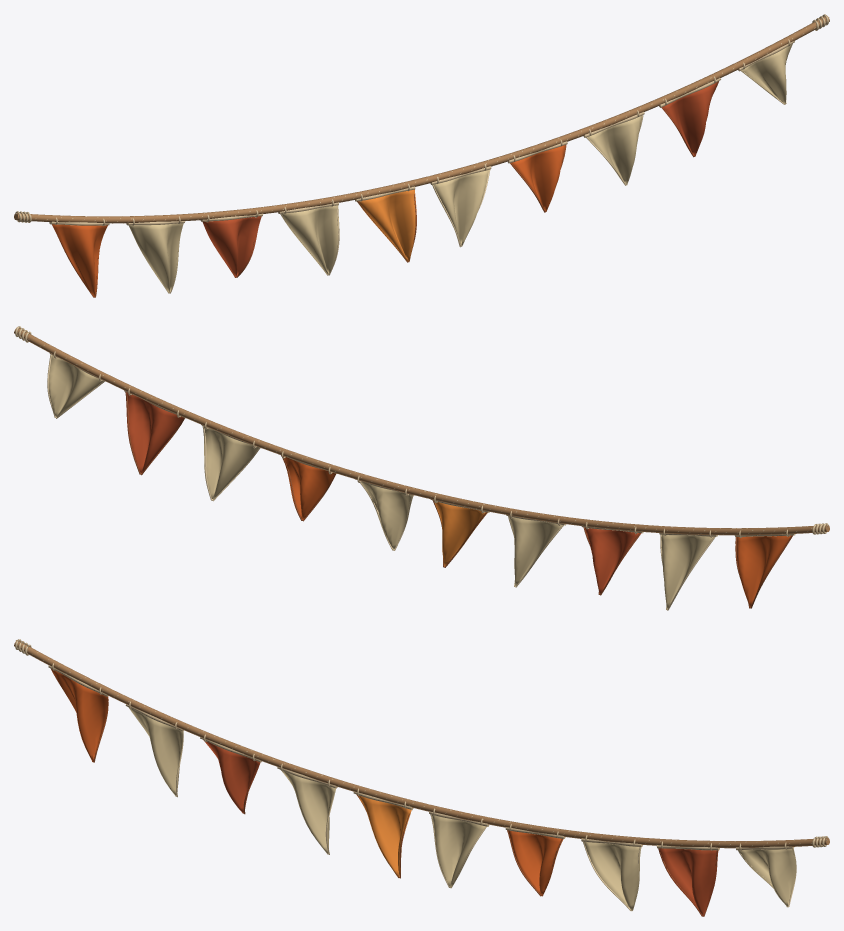
Rendered from wsc-prop-015-pennant-string.glb.
3 views of the same model, one above another, from view 1: azimuth 30°, elevation 25°; view 2: azimuth 150°, elevation 25°; view 3: azimuth 330°, elevation 25° (orthographic).
Visible parts, largest first — view 1: wsc-prop-015-pennant-string; view 2: wsc-prop-015-pennant-string; view 3: wsc-prop-015-pennant-string.
Boxes of the visible parts, x1,y1,x2,y2 form: wsc-prop-015-pennant-string: (14, 14, 829, 297); wsc-prop-015-pennant-string: (14, 326, 829, 610); wsc-prop-015-pennant-string: (14, 639, 829, 916).
Size of the model in its own units: 6.92 by 1.15 by 0.2219.
